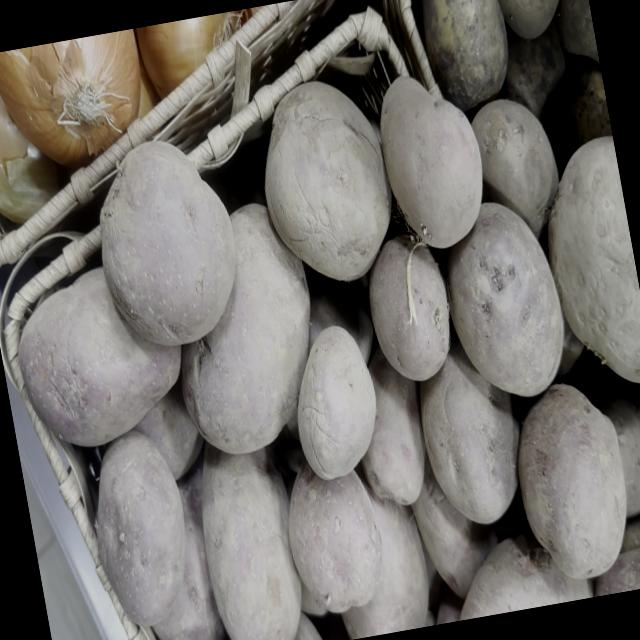potato: (182, 203, 310, 453), (18, 267, 180, 445), (100, 140, 236, 345), (264, 81, 391, 279), (547, 135, 640, 382), (446, 202, 563, 395), (517, 383, 626, 578), (202, 442, 301, 640), (419, 342, 519, 523), (380, 76, 482, 247), (97, 429, 185, 625), (342, 465, 429, 638), (288, 461, 382, 612), (152, 451, 226, 640), (297, 325, 376, 479), (471, 99, 559, 237), (412, 458, 497, 597), (369, 233, 449, 380), (460, 531, 591, 619), (361, 347, 425, 504), (422, 0, 508, 110), (585, 378, 640, 516), (500, 21, 566, 134), (498, 0, 558, 38), (594, 548, 640, 595)
